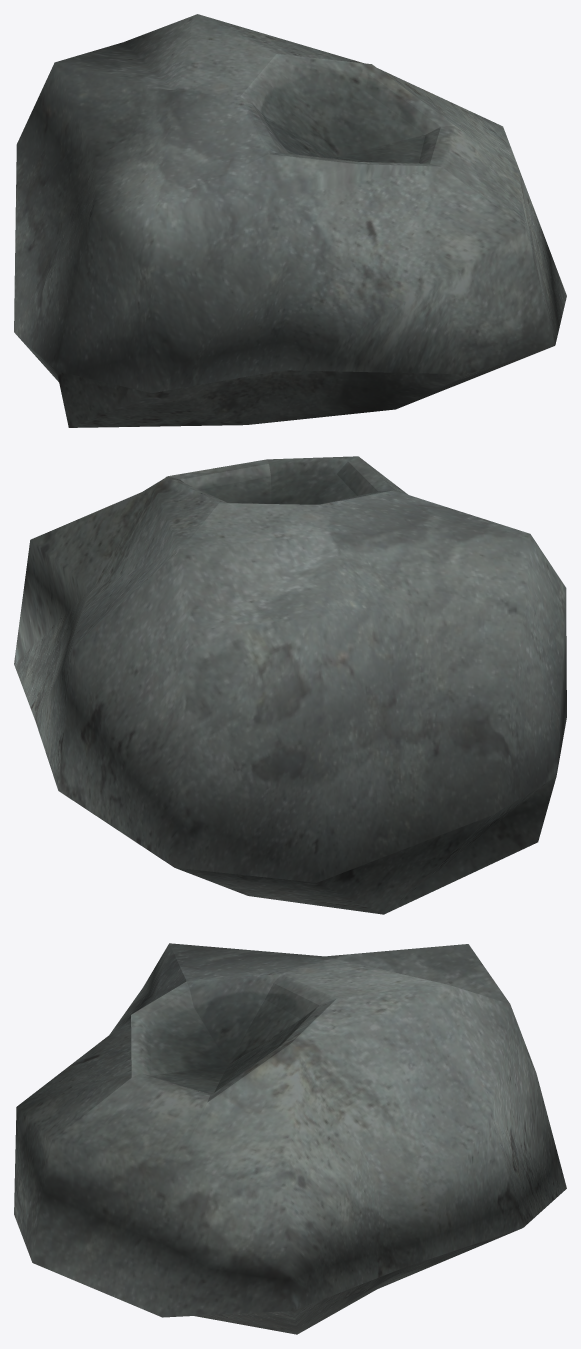
File: Meteorite.fbx
3 renders of one model, top to bottom at view 1: azimuth 30°, elevation 25°; view 2: azimuth 150°, elevation 25°; view 3: azimuth 270°, elevation 25°, orthographic. The views are drawn at different scales.
Visible parts, largest first — view 1: rock16_5_LP:polySurface1; view 2: rock16_5_LP:polySurface1; view 3: rock16_5_LP:polySurface1.
Part boxes in pixels (left/top/right/bottom): rock16_5_LP:polySurface1: left=14, top=14, right=566, bottom=427; rock16_5_LP:polySurface1: left=14, top=456, right=566, bottom=914; rock16_5_LP:polySurface1: left=14, top=943, right=566, bottom=1334.
Size of the model in its own units: 48.89 by 31.19 by 50.16.
1 material, 1 textured.
